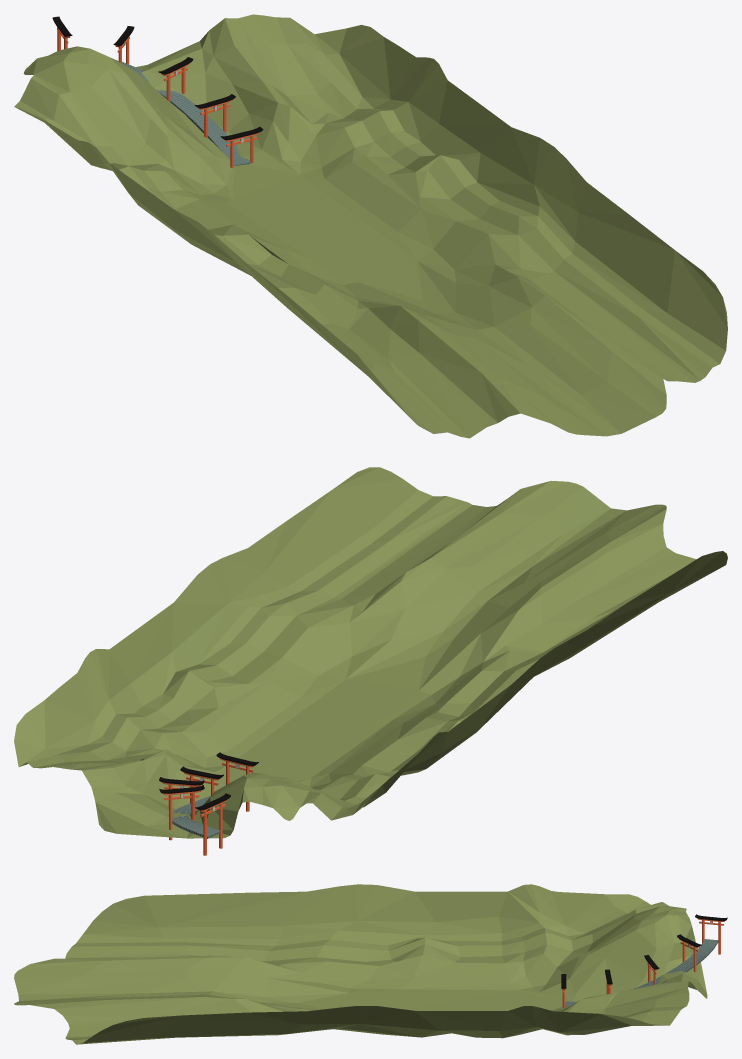
The model's file is bamboo_forest_clearing_ground.glb.
3 views of the same model, one above another, from view 1: azimuth 30°, elevation 25°; view 2: azimuth 150°, elevation 25°; view 3: azimuth 270°, elevation 25° (orthographic). The views are drawn at different scales.
Visible parts, largest first — view 1: ground.001, path.001, archway.002, archway.003; view 2: ground.001, archway.002, archway.003, path.001; view 3: ground.001, archway.002, path.001, archway.003.
Part boxes in pixels (x1,y1,x2,y2): ground.001: (14, 14, 727, 438); path.001: (117, 60, 250, 165); archway.002: (57, 27, 259, 168); archway.003: (52, 16, 263, 140); ground.001: (14, 467, 727, 838); archway.002: (162, 758, 254, 855); archway.003: (159, 752, 258, 810); path.001: (172, 796, 220, 838); ground.001: (14, 884, 707, 1044); archway.002: (562, 918, 724, 1007); path.001: (565, 939, 718, 1006); archway.003: (561, 914, 727, 988).
Size of the model in its own units: 120 by 33.69 by 296.
